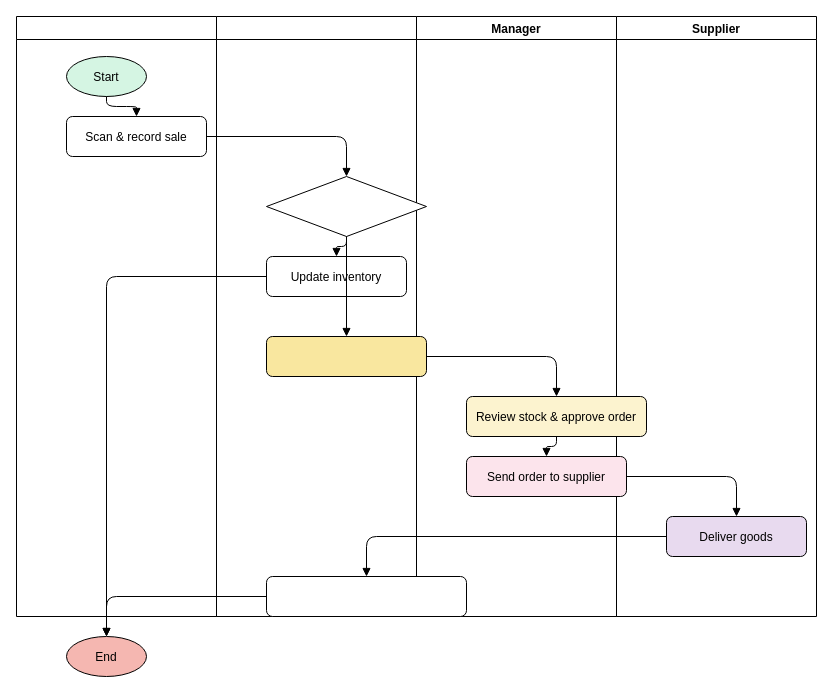
Some shapes in this 833 by 693 pixel diagram are drawn without their labels. Each missing label, with the box of its shape:
Employee: (16, 16, 216, 616)
Is stock below threshold?: (266, 176, 426, 236)
Send alert to manager: (266, 336, 426, 376)
System: (216, 16, 416, 616)
Update inventory after delivery: (266, 576, 466, 616)
